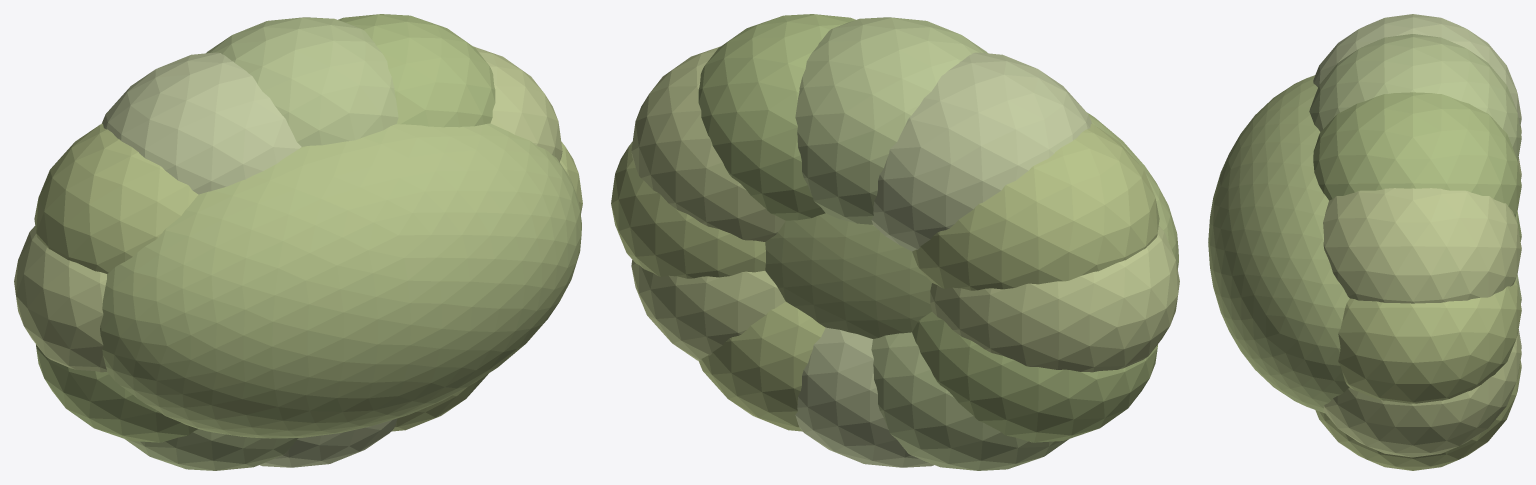
Rendered from savanna_bush.glb.
3 renders of one model, left to right at view 1: azimuth 30°, elevation 25°; view 2: azimuth 150°, elevation 25°; view 3: azimuth 270°, elevation 25°, orthographic. The views are drawn at different scales.
Parts seen in each view (by area): view 1: savanna_bush_012, savanna_bush_004, savanna_bush_003, savanna_bush_005, savanna_bush_002, savanna_bush_006, savanna_bush_007, savanna_bush_001, savanna_bush_008, savanna_bush_009, savanna_bush_010; view 2: savanna_bush_004, savanna_bush_005, savanna_bush_003, savanna_bush_006, savanna_bush_002, savanna_bush_012, savanna_bush_007, savanna_bush_001, savanna_bush_008, savanna_bush_009, savanna_bush_000, savanna_bush_010 (+1 smaller); view 3: savanna_bush_012, savanna_bush_001, savanna_bush_002, savanna_bush_000, savanna_bush_003, savanna_bush_011, savanna_bush_004, savanna_bush_010.
Part boxes in pixels (x1,y1,x2,y2): savanna_bush_012: (100, 123, 581, 438); savanna_bush_004: (101, 52, 301, 194); savanna_bush_003: (206, 17, 398, 146); savanna_bush_005: (34, 123, 198, 273); savanna_bush_002: (338, 14, 495, 127); savanna_bush_006: (14, 226, 106, 372); savanna_bush_007: (36, 344, 197, 442); savanna_bush_001: (473, 46, 562, 161); savanna_bush_008: (125, 429, 298, 470); savanna_bush_009: (260, 418, 397, 467); savanna_bush_010: (391, 373, 488, 431); savanna_bush_004: (871, 52, 1092, 251); savanna_bush_005: (912, 123, 1159, 290); savanna_bush_003: (795, 17, 987, 224); savanna_bush_006: (930, 226, 1179, 372); savanna_bush_002: (698, 14, 855, 220); savanna_bush_012: (765, 112, 1178, 338); savanna_bush_007: (912, 312, 1157, 442); savanna_bush_001: (631, 46, 785, 241); savanna_bush_008: (871, 332, 1068, 470); savanna_bush_009: (795, 327, 933, 467); savanna_bush_000: (611, 142, 765, 278); savanna_bush_010: (698, 301, 825, 431); savanna_bush_012: (1208, 75, 1349, 413); savanna_bush_001: (1323, 188, 1521, 303); savanna_bush_002: (1313, 92, 1521, 216); savanna_bush_000: (1338, 280, 1521, 403); savanna_bush_003: (1309, 34, 1521, 161); savanna_bush_011: (1323, 332, 1521, 457); savanna_bush_004: (1313, 14, 1521, 127); savanna_bush_010: (1315, 361, 1521, 470).
Bounding box in the file's own units: 1.78 × 1.34 × 0.98.
